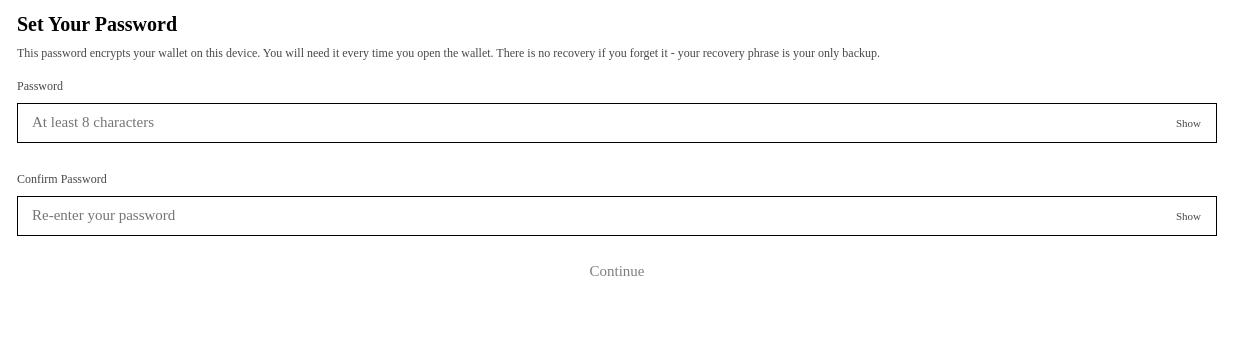
PasswordSetupScreen (B5.1) › rejects "weak" passwords (length OK but low diversity)
Step 1. Type "aaaaaaaa" into the password field labelled "Password" → (617, 123), box [17, 103, 1217, 143]
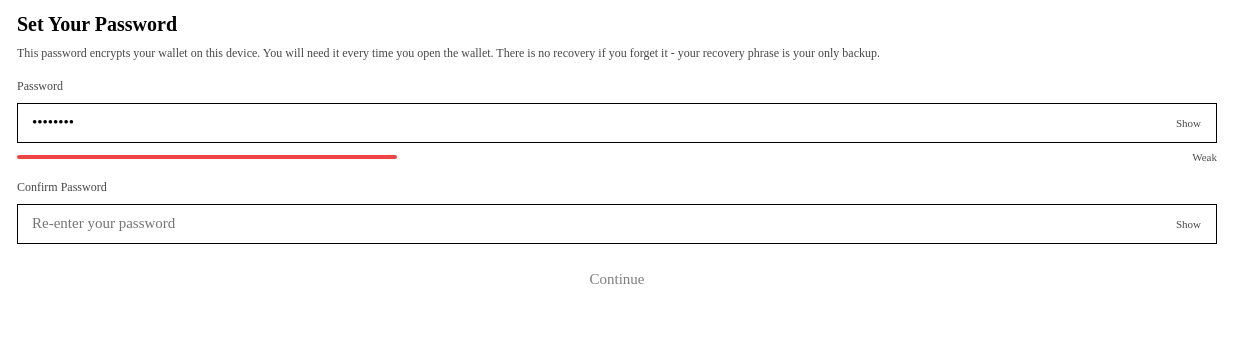
Step 2. Type "aaaaaaaa" into the password field labelled "Confirm Password" → (617, 224), box [17, 204, 1217, 244]
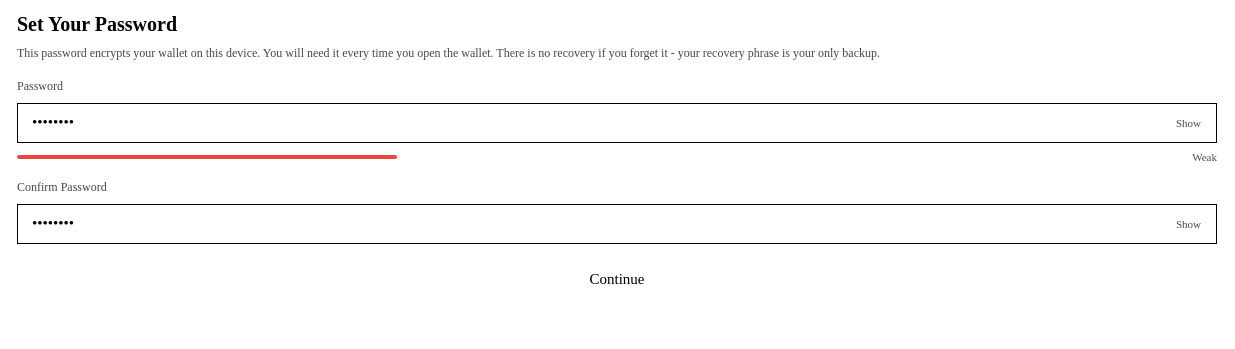
Step 3. Click the button "Continue" → (617, 280), box [17, 260, 1217, 300]
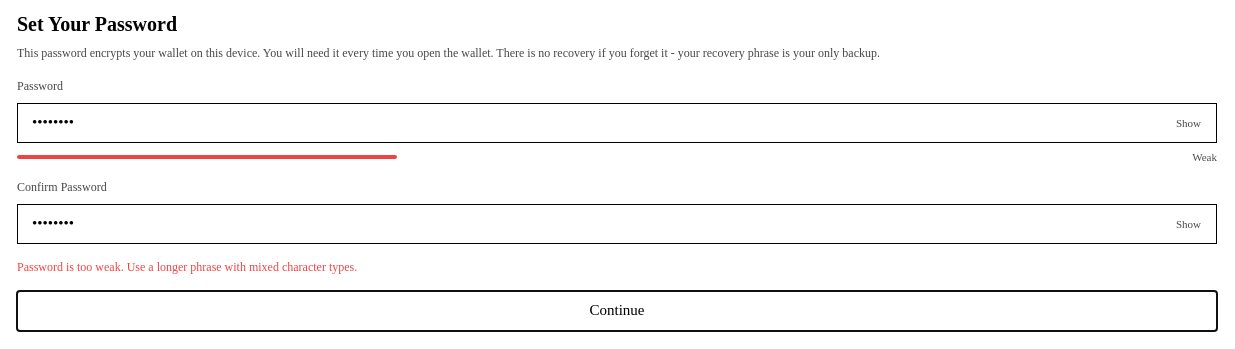
Expected: the message "Password is too weak. Use a longer phrase with mixed character types." is shown, [17, 260, 357, 274]
